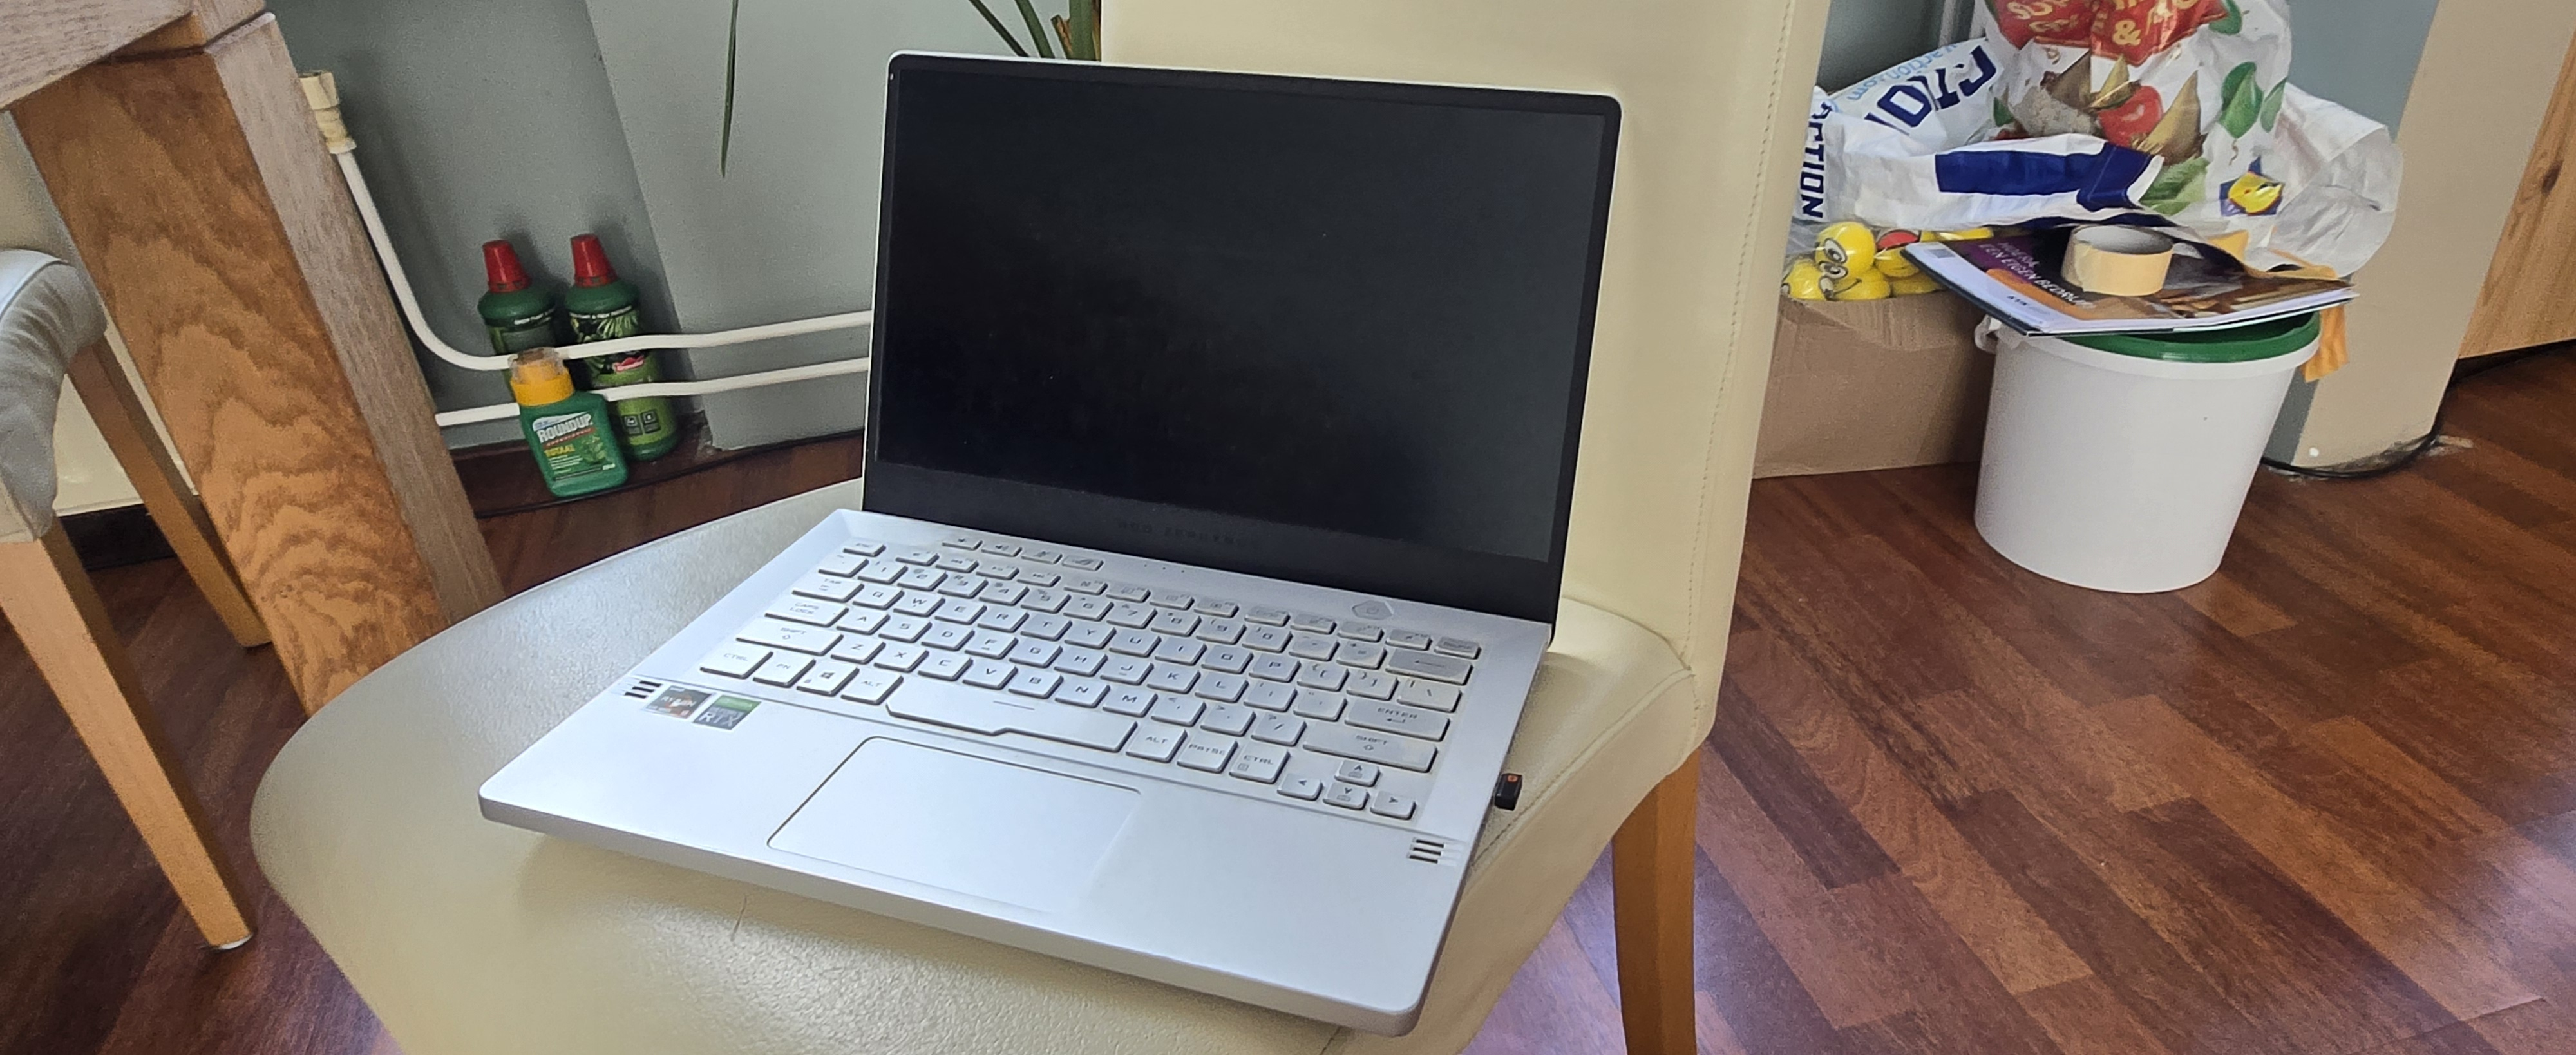laptop: (422, 8, 1722, 1055)
